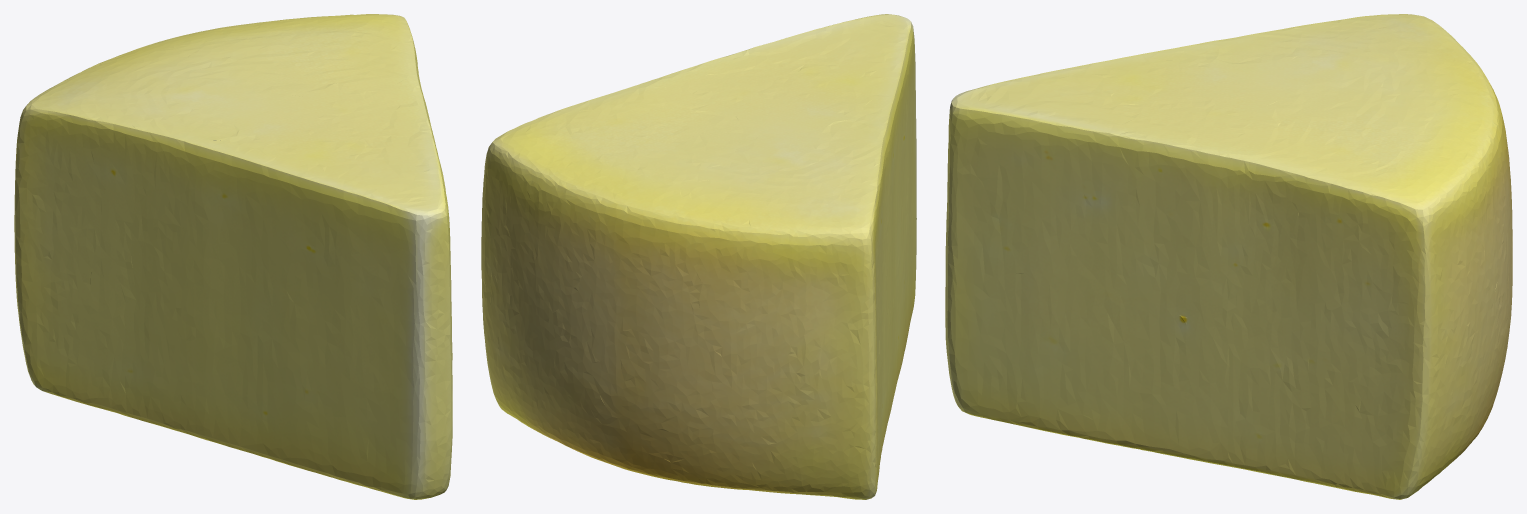
The picture shows the model from 3 angles, left to right: view 1: azimuth 30°, elevation 25°; view 2: azimuth 150°, elevation 25°; view 3: azimuth 270°, elevation 25°; orthographic projection. The views are drawn at different scales.
Parts seen in each view (by area): view 1: world; view 2: world; view 3: world.
Part boxes in pixels (box(x1,y1,x2,y2)): world: box(14, 14, 452, 499); world: box(481, 14, 916, 499); world: box(945, 14, 1512, 499).
Bounding box in the file's own units: 0.847 × 0.6114 × 0.9979.
Materials: 1 (1 with a texture image).
